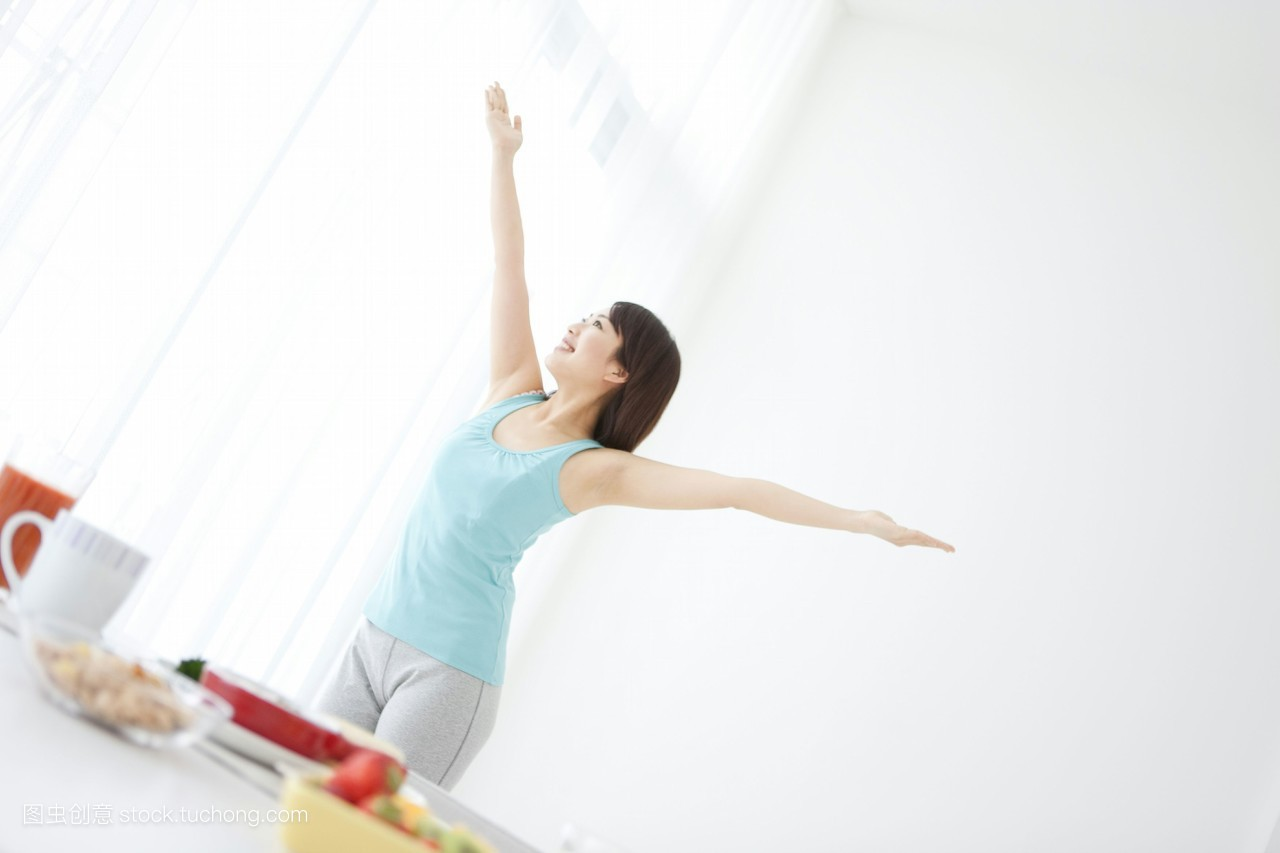handsup: (303, 71, 973, 807)
